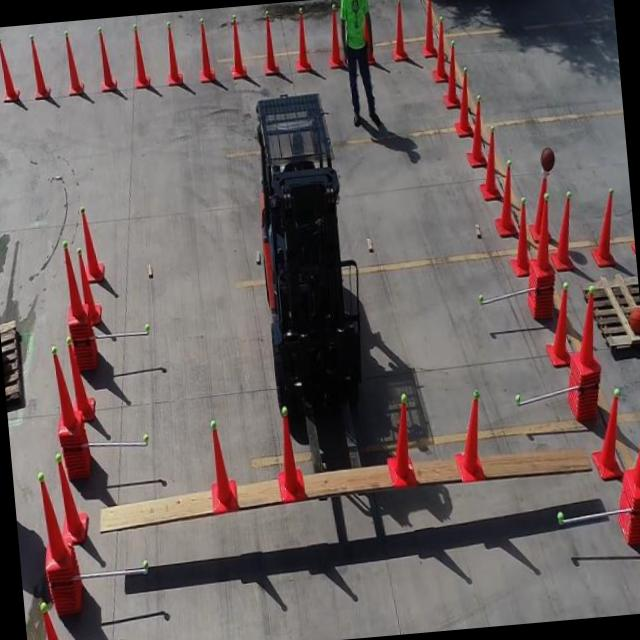forklift: (244, 89, 367, 412)
person: (339, 0, 382, 123)
